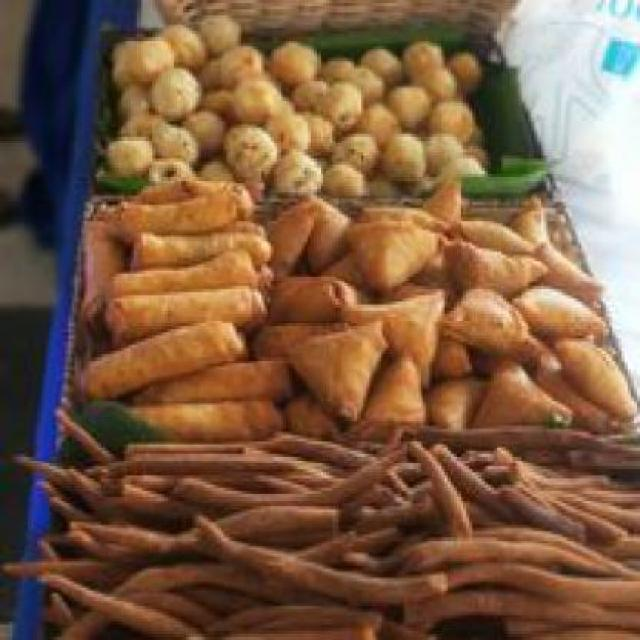samosa: (280, 183, 637, 426)
spring rolls: (81, 171, 276, 435)
